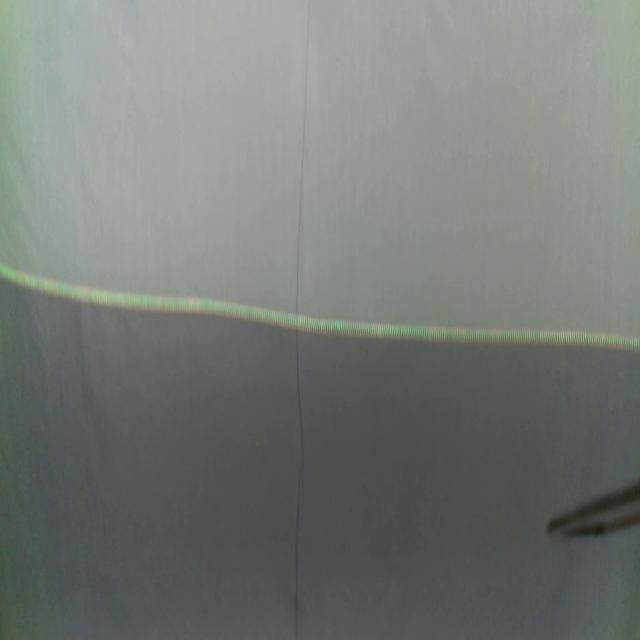crease: (293, 0, 312, 640)
